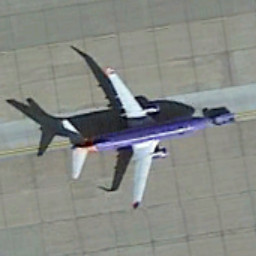Airplane: (45, 51, 219, 218)
